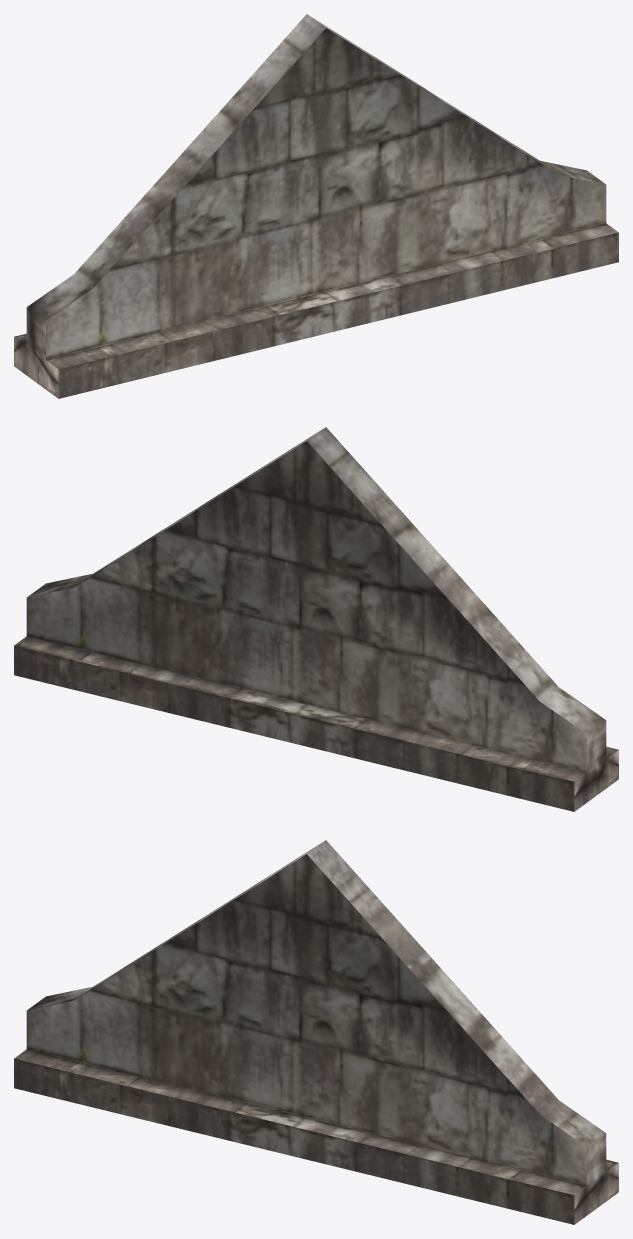
The model's file is roof_angle_sm.glb.
3 renders of one model, top to bottom at view 1: azimuth 30°, elevation 25°; view 2: azimuth 150°, elevation 25°; view 3: azimuth 330°, elevation 25°, orthographic.
Parts seen in each view (by area): view 1: roof_angle_sm; view 2: roof_angle_sm; view 3: roof_angle_sm.
Part boxes in pixels (<box>): roof_angle_sm: <box>14,14,618,398</box>; roof_angle_sm: <box>14,427,618,811</box>; roof_angle_sm: <box>14,840,618,1224</box>.
Size of the model in its own units: 8 by 4 by 1.1.
1 material, 1 textured.
